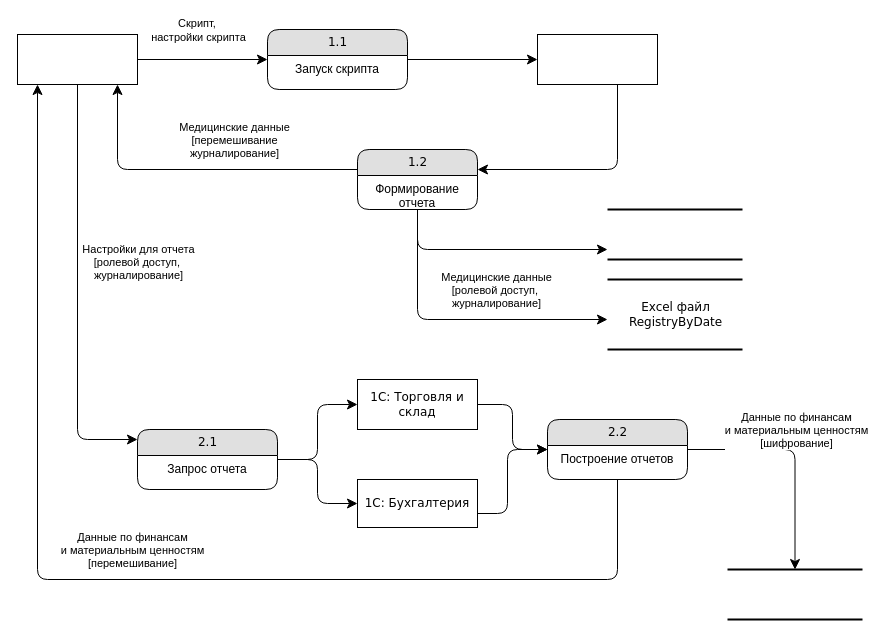
Image size: 885x638. Some labels were removed from this diagram. The shapes that lost their labels are listed below. From the top down, each one's centre as x and y in pixels, then its label:
At point 77,59: "Сотрудник IT отдела".
At point 597,59: "Скрипт".
At point 674,234: "Journal-Doctor-FIO 1".
At point 794,594: "File Server".
